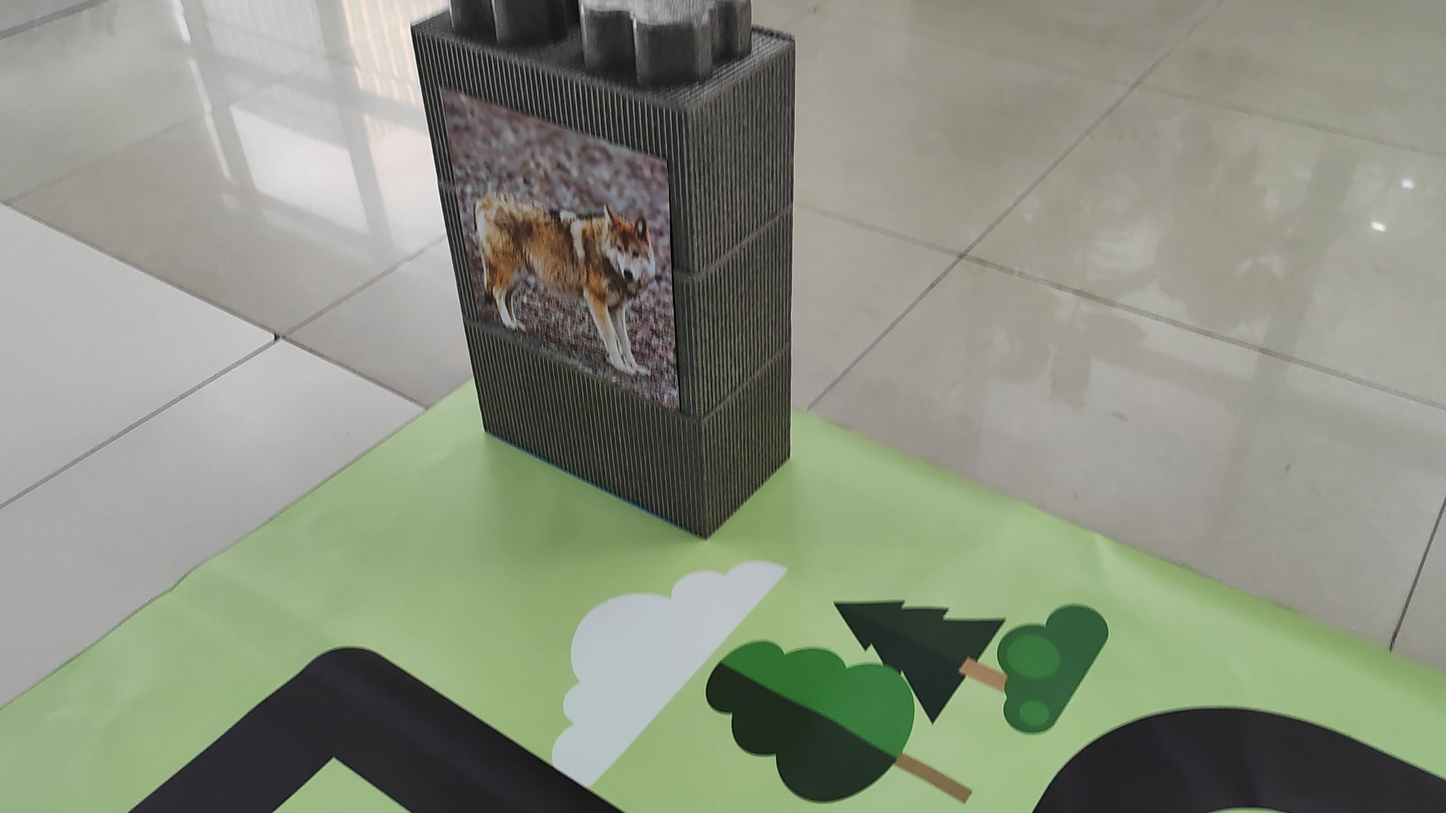wolf: (453, 131, 667, 385)
